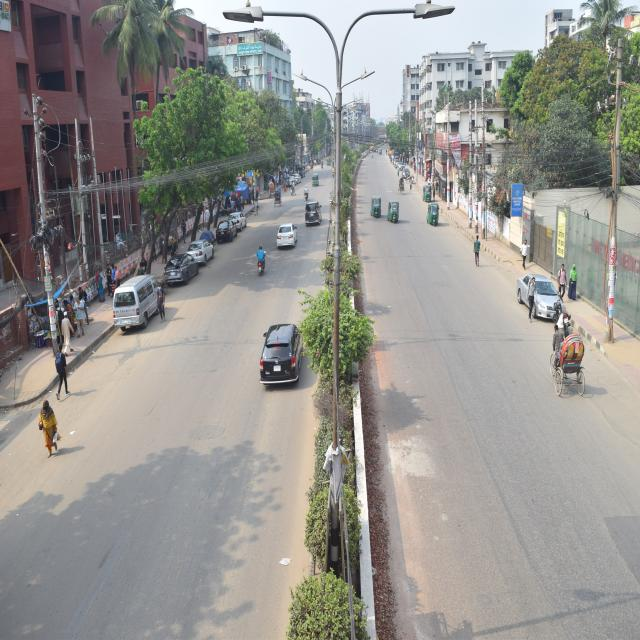car: (261, 311, 309, 397), (517, 270, 563, 320), (167, 254, 195, 292), (187, 236, 211, 266), (277, 229, 297, 258), (303, 196, 318, 233), (217, 220, 240, 243), (235, 205, 249, 232)
microbus: (108, 272, 166, 332), (304, 196, 324, 226)
motorbike: (549, 302, 576, 350), (249, 238, 271, 293)
